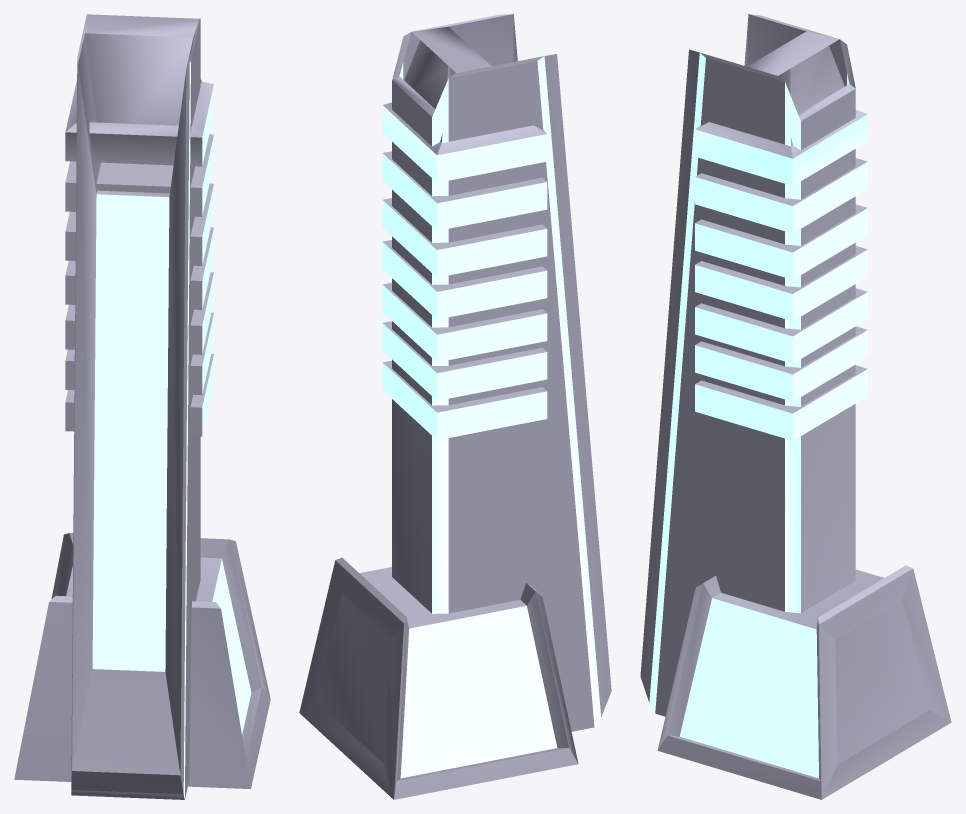
Rendered from mrakodrap1.fbx.
3 renders of one model, left to right at view 1: azimuth 30°, elevation 25°; view 2: azimuth 150°, elevation 25°; view 3: azimuth 270°, elevation 25°, orthographic. The views are drawn at different scales.
Parts seen in each view (by area): view 1: Downtown Center City.016; view 2: Downtown Center City.016; view 3: Downtown Center City.016.
Part boxes in pixels (<box>): Downtown Center City.016: <box>14,14,270,799</box>; Downtown Center City.016: <box>299,14,611,799</box>; Downtown Center City.016: <box>640,14,951,799</box>.
Bounding box in the file's own units: 288 × 723 × 299.
